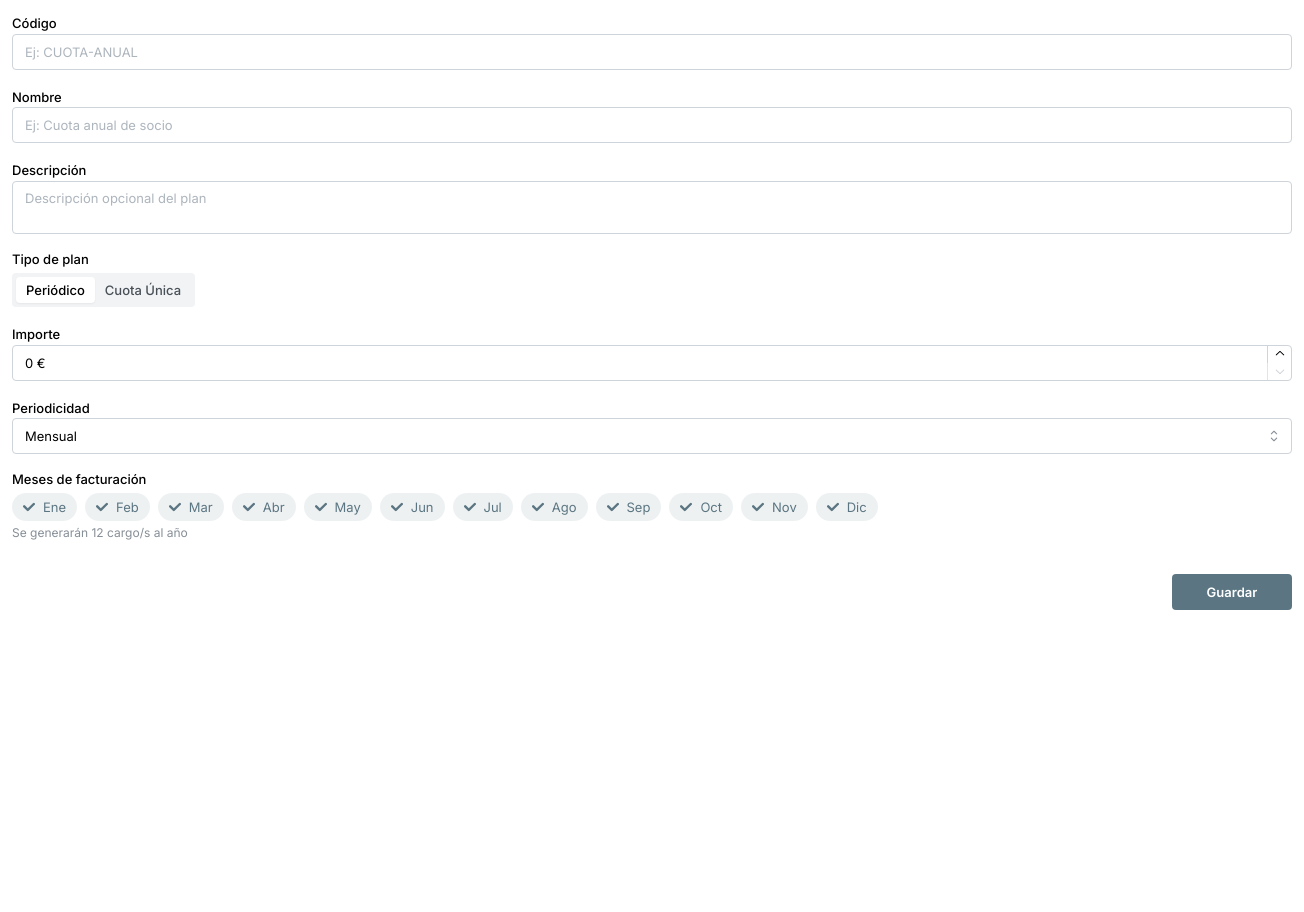
Test: FeePlanForm › validacion de formulario › deberia mostrar error de validacion cuando el codigo esta vacio
# enviar sin llenar codigo
Type "Plan" into the field with placeholder "Ej: Cuota anual de socio".
click(652, 125); type("Plan")  # box x1=12 y1=107 x2=1292 y2=143
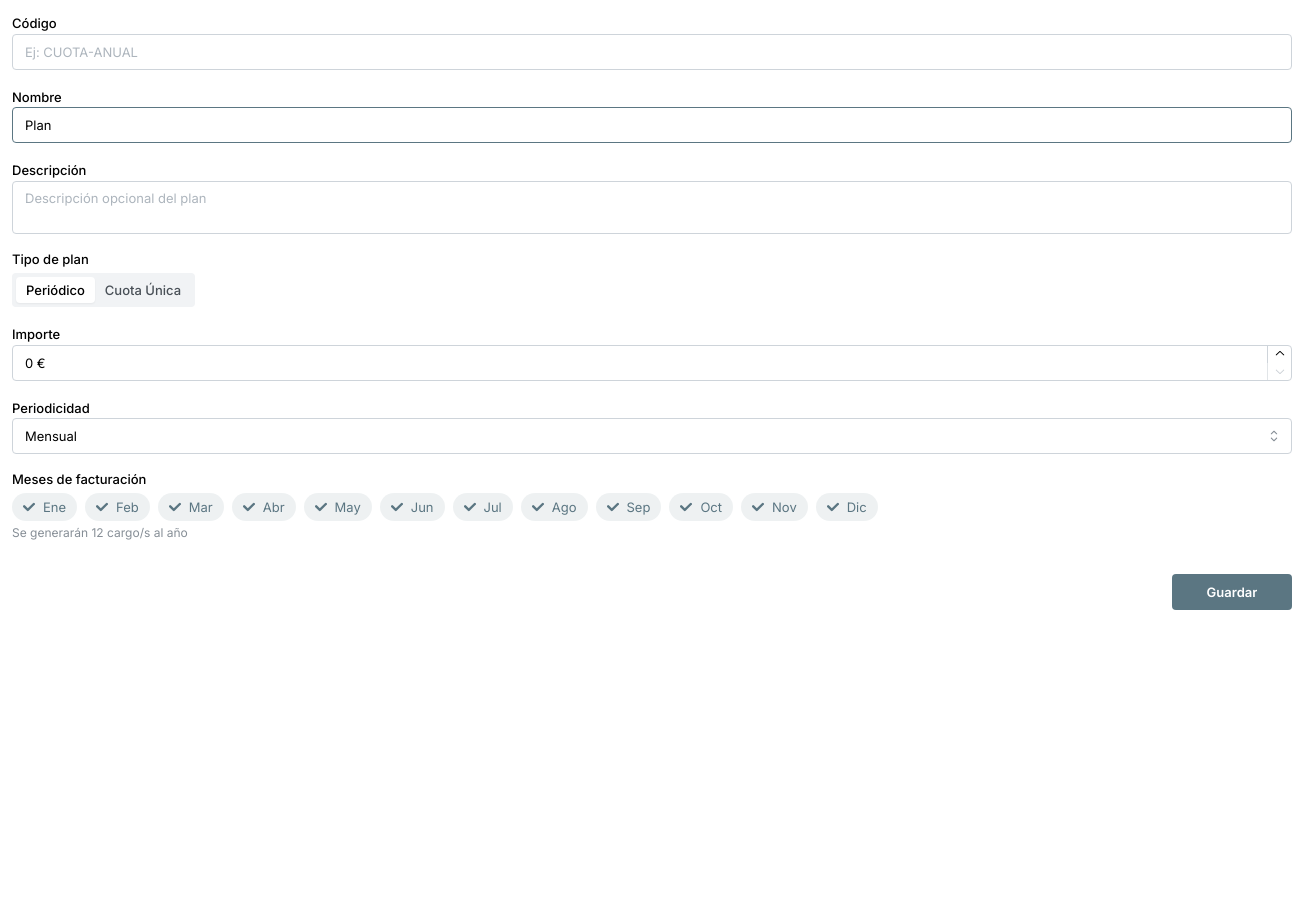
Replace the text in the field labelled "Importe" with "10" at (652, 363), box x1=12 y1=345 x2=1292 y2=381
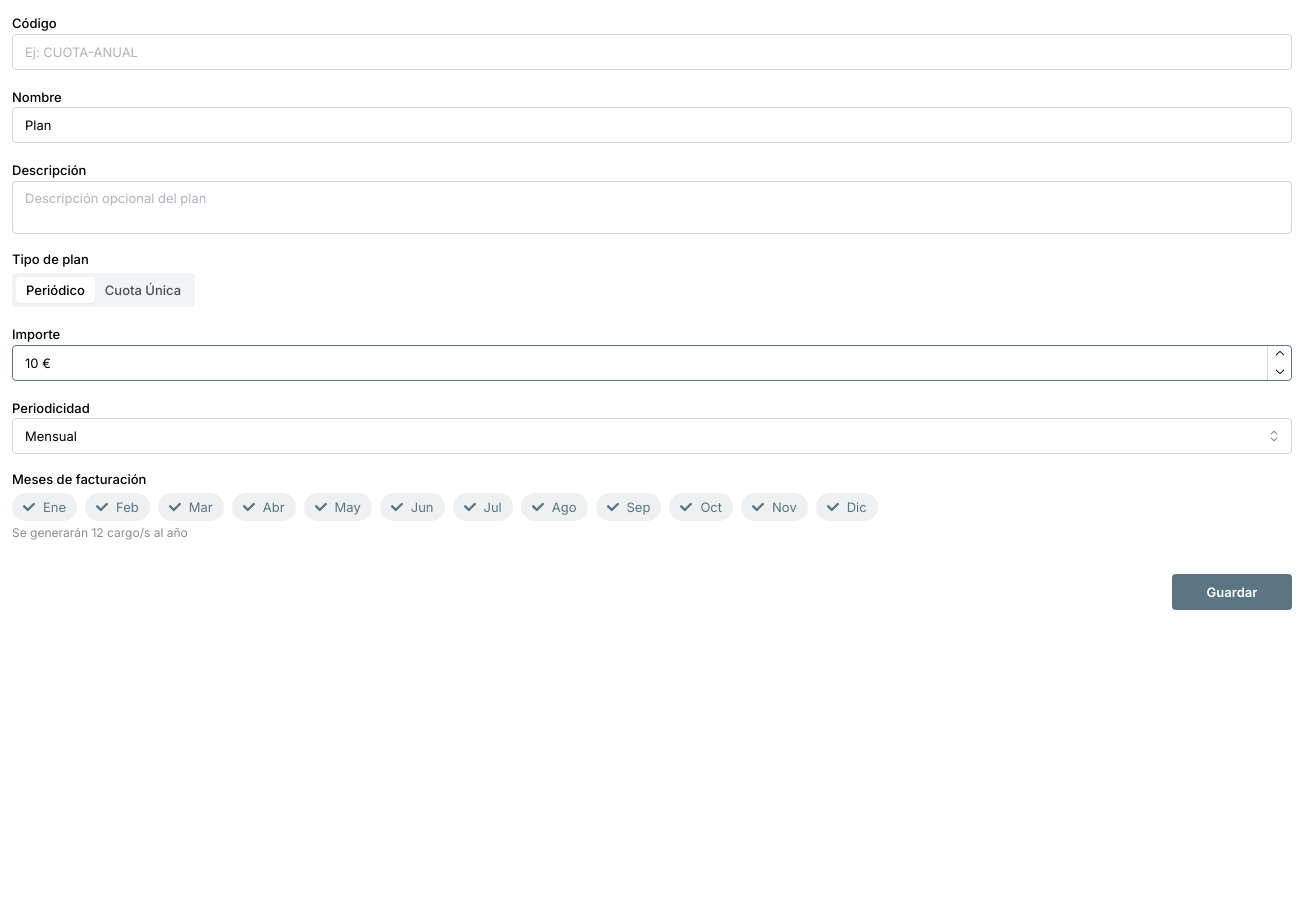
Click the button "Guardar".
click(1232, 592)  # box x1=1172 y1=574 x2=1292 y2=610
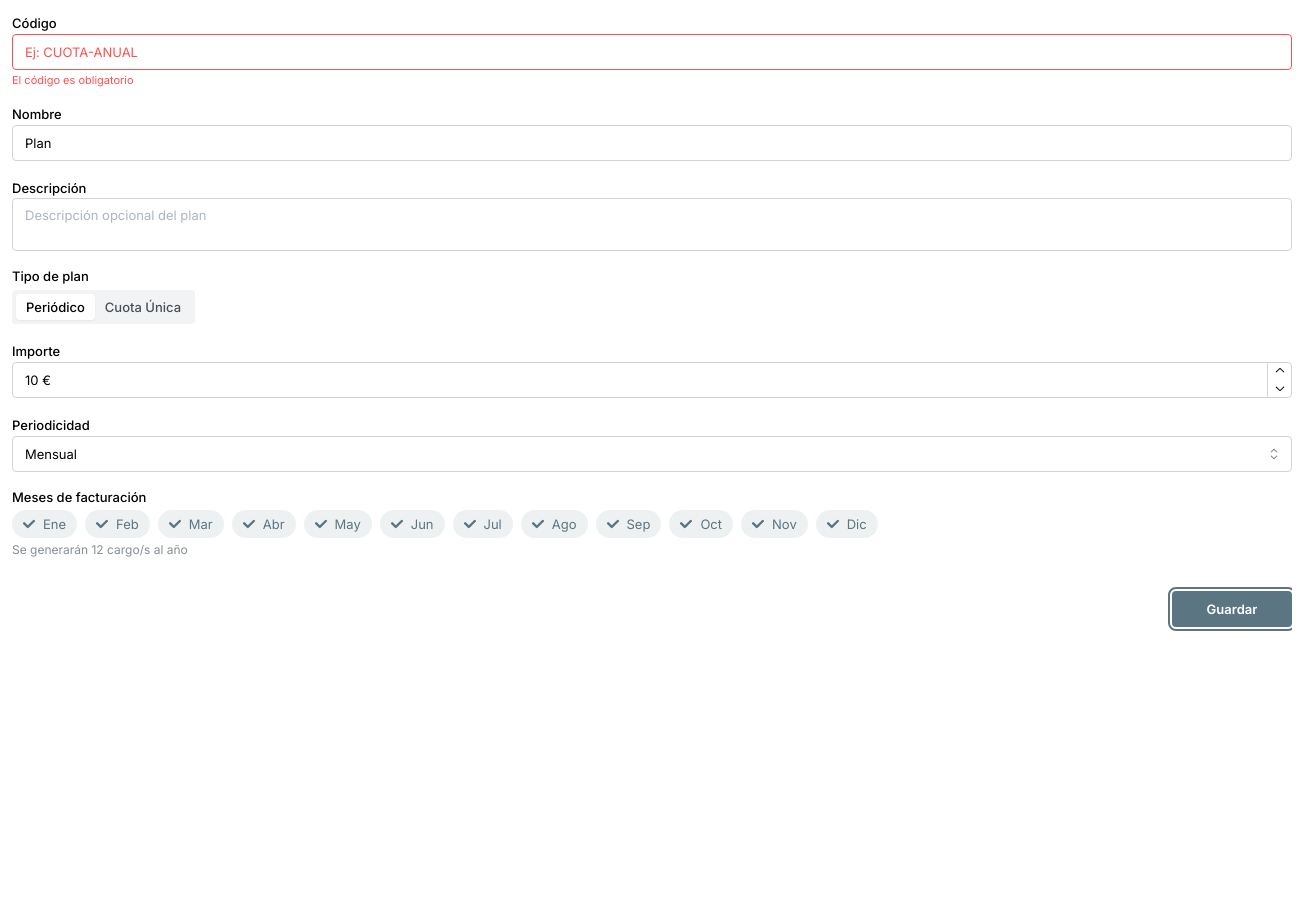
Check: the text "El código es obligatorio" is shown, box x1=12 y1=73 x2=134 y2=87
